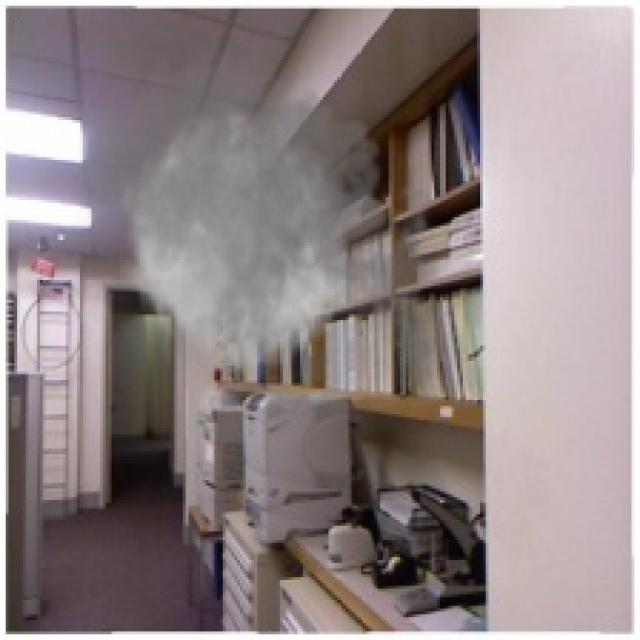smoke: (66, 34, 457, 446)
